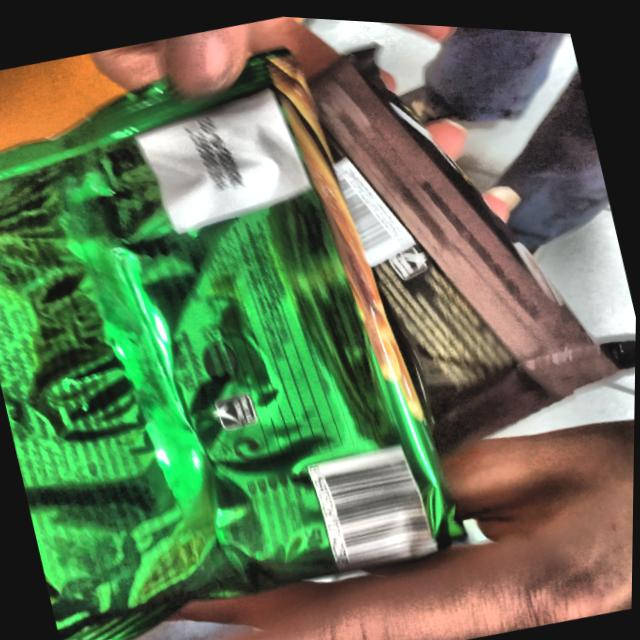Plastic: (0, 37, 475, 640), (289, 40, 622, 465)
